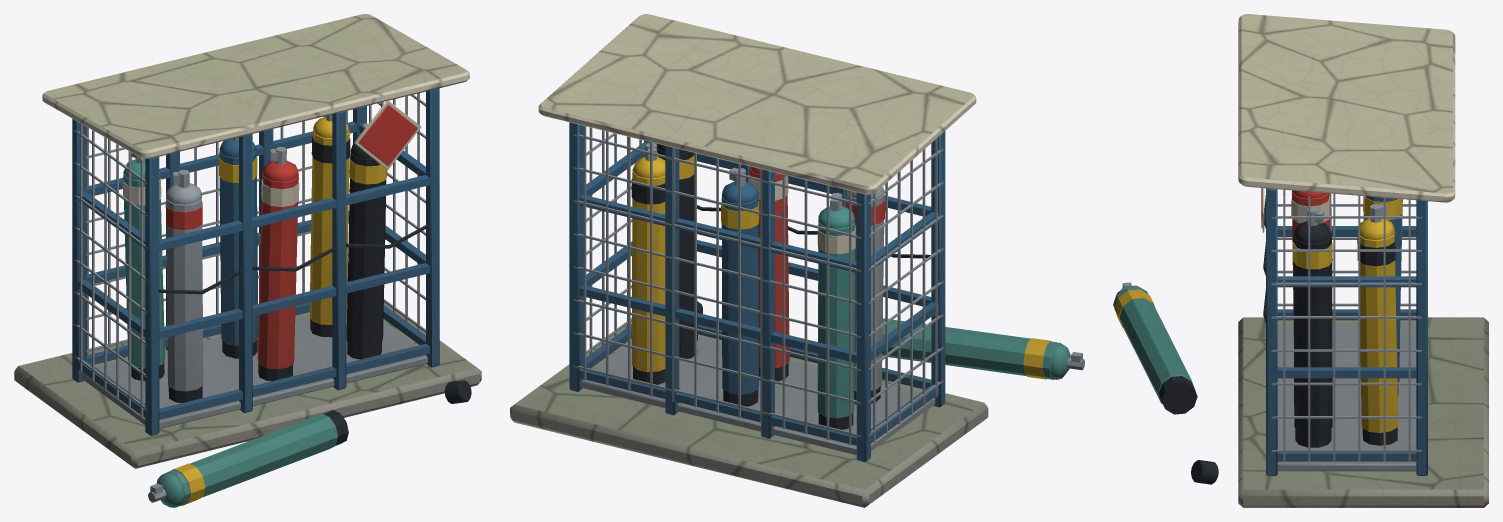
File: gas_cylinder_rack.glb
The picture shows the model from 3 angles, left to right: view 1: azimuth 30°, elevation 25°; view 2: azimuth 150°, elevation 25°; view 3: azimuth 270°, elevation 25°; orthographic projection. The views are drawn at different scales.
Visible parts, largest first — view 1: gas_cylinder_rack; view 2: gas_cylinder_rack; view 3: gas_cylinder_rack.
Boxes of the visible parts, x1,y1,x2,y2 form: gas_cylinder_rack: [14, 14, 481, 507]; gas_cylinder_rack: [510, 14, 1084, 507]; gas_cylinder_rack: [1113, 14, 1488, 507].
Size of the model in its own units: 2.76 by 2.16 by 2.25.
Materials: 17 (17 with a texture image).
